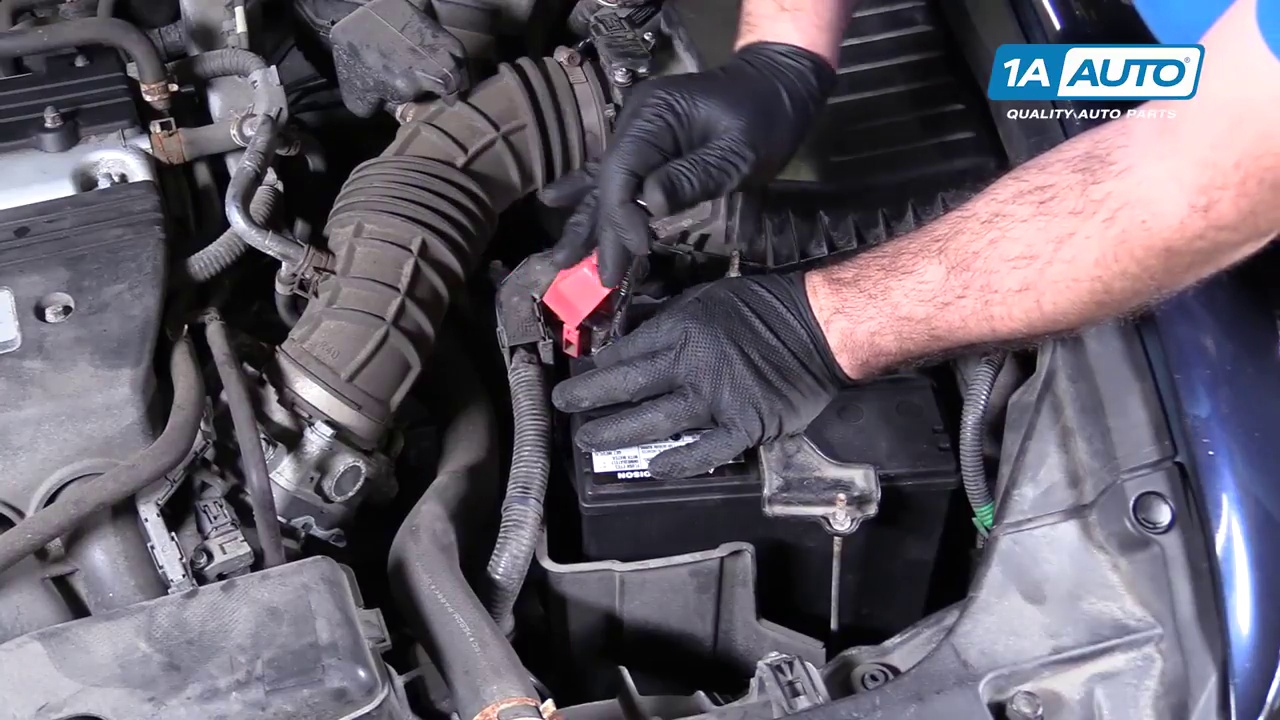battery: (564, 301, 965, 536)
pos_touched: (538, 206, 674, 385)
